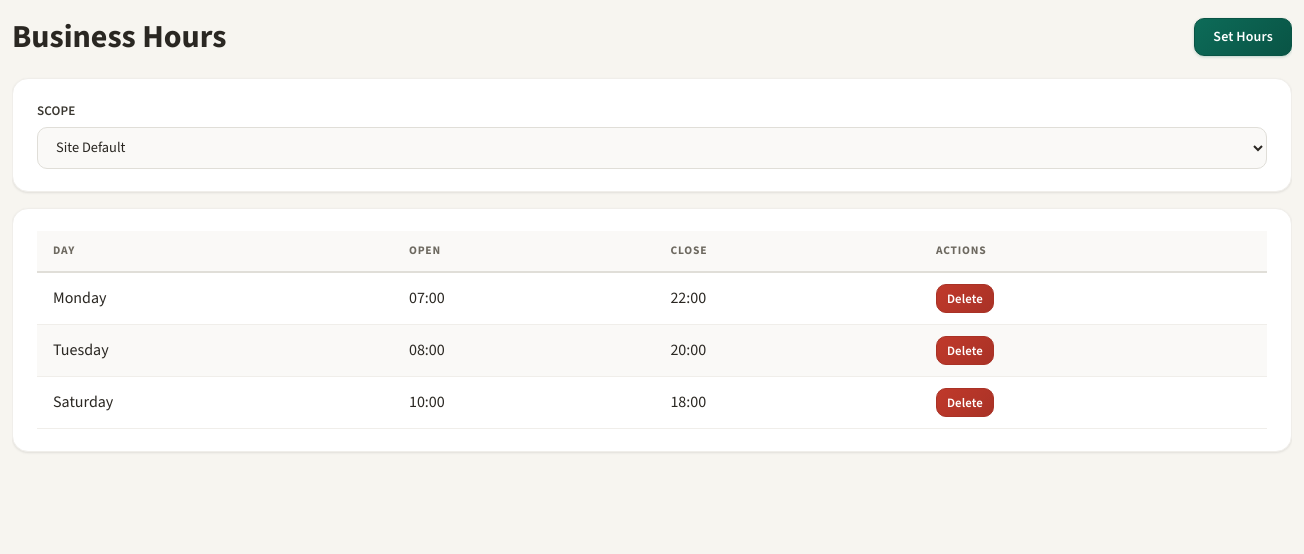
it: BusinessHoursPage › Scope filter › shows Zone filter when zone scope is selected
Select "Zone Override" in the dropdown: {"x": 652, "y": 148} [37,126,1267,169]
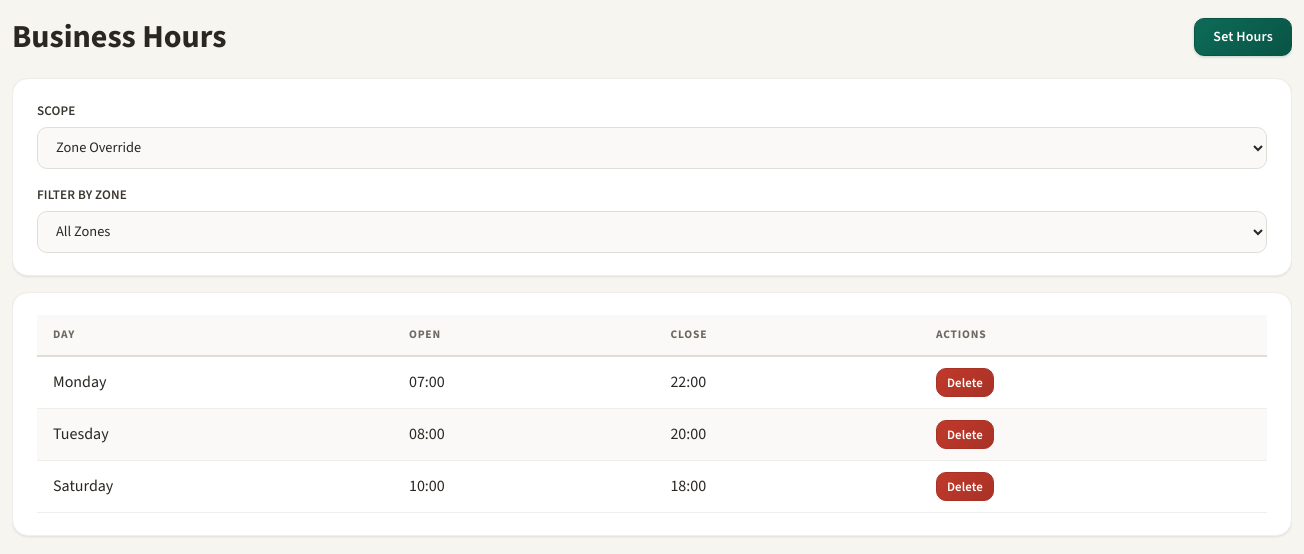
Result: the text "Filter by Zone" is shown at [37,186,127,203]
